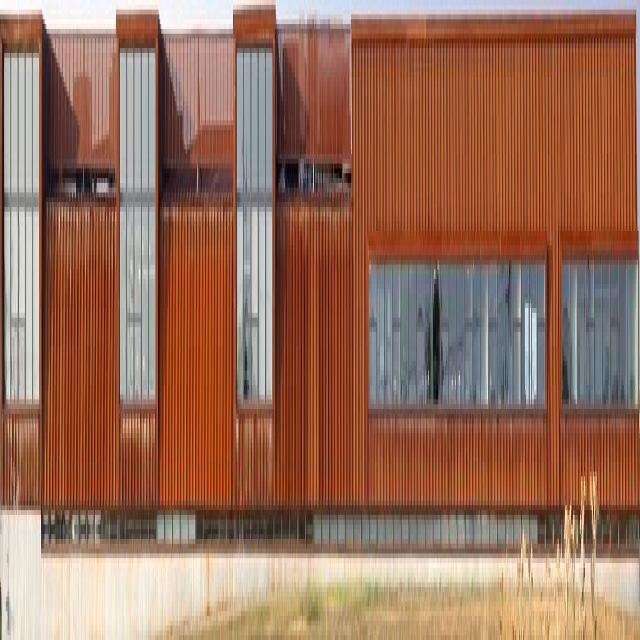window: (43, 508, 639, 571), (370, 261, 545, 408), (235, 35, 273, 417), (119, 48, 156, 400), (4, 52, 38, 420), (563, 240, 637, 404)
